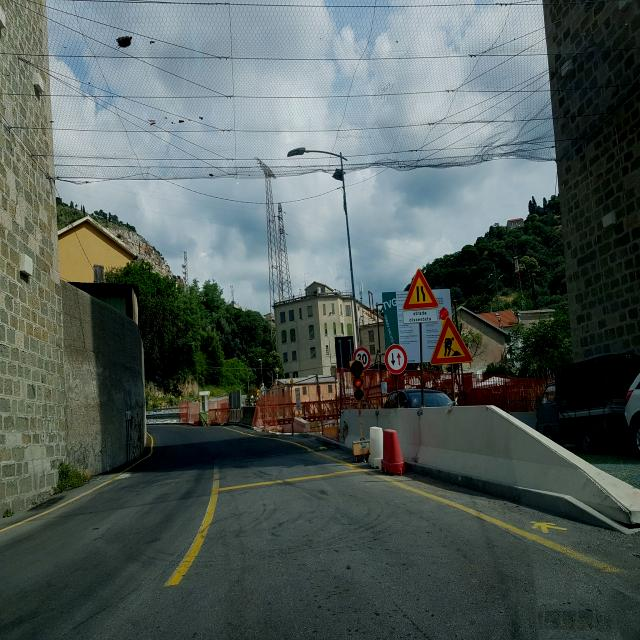car: (537, 349, 640, 454), (382, 388, 456, 412), (623, 358, 640, 460)
